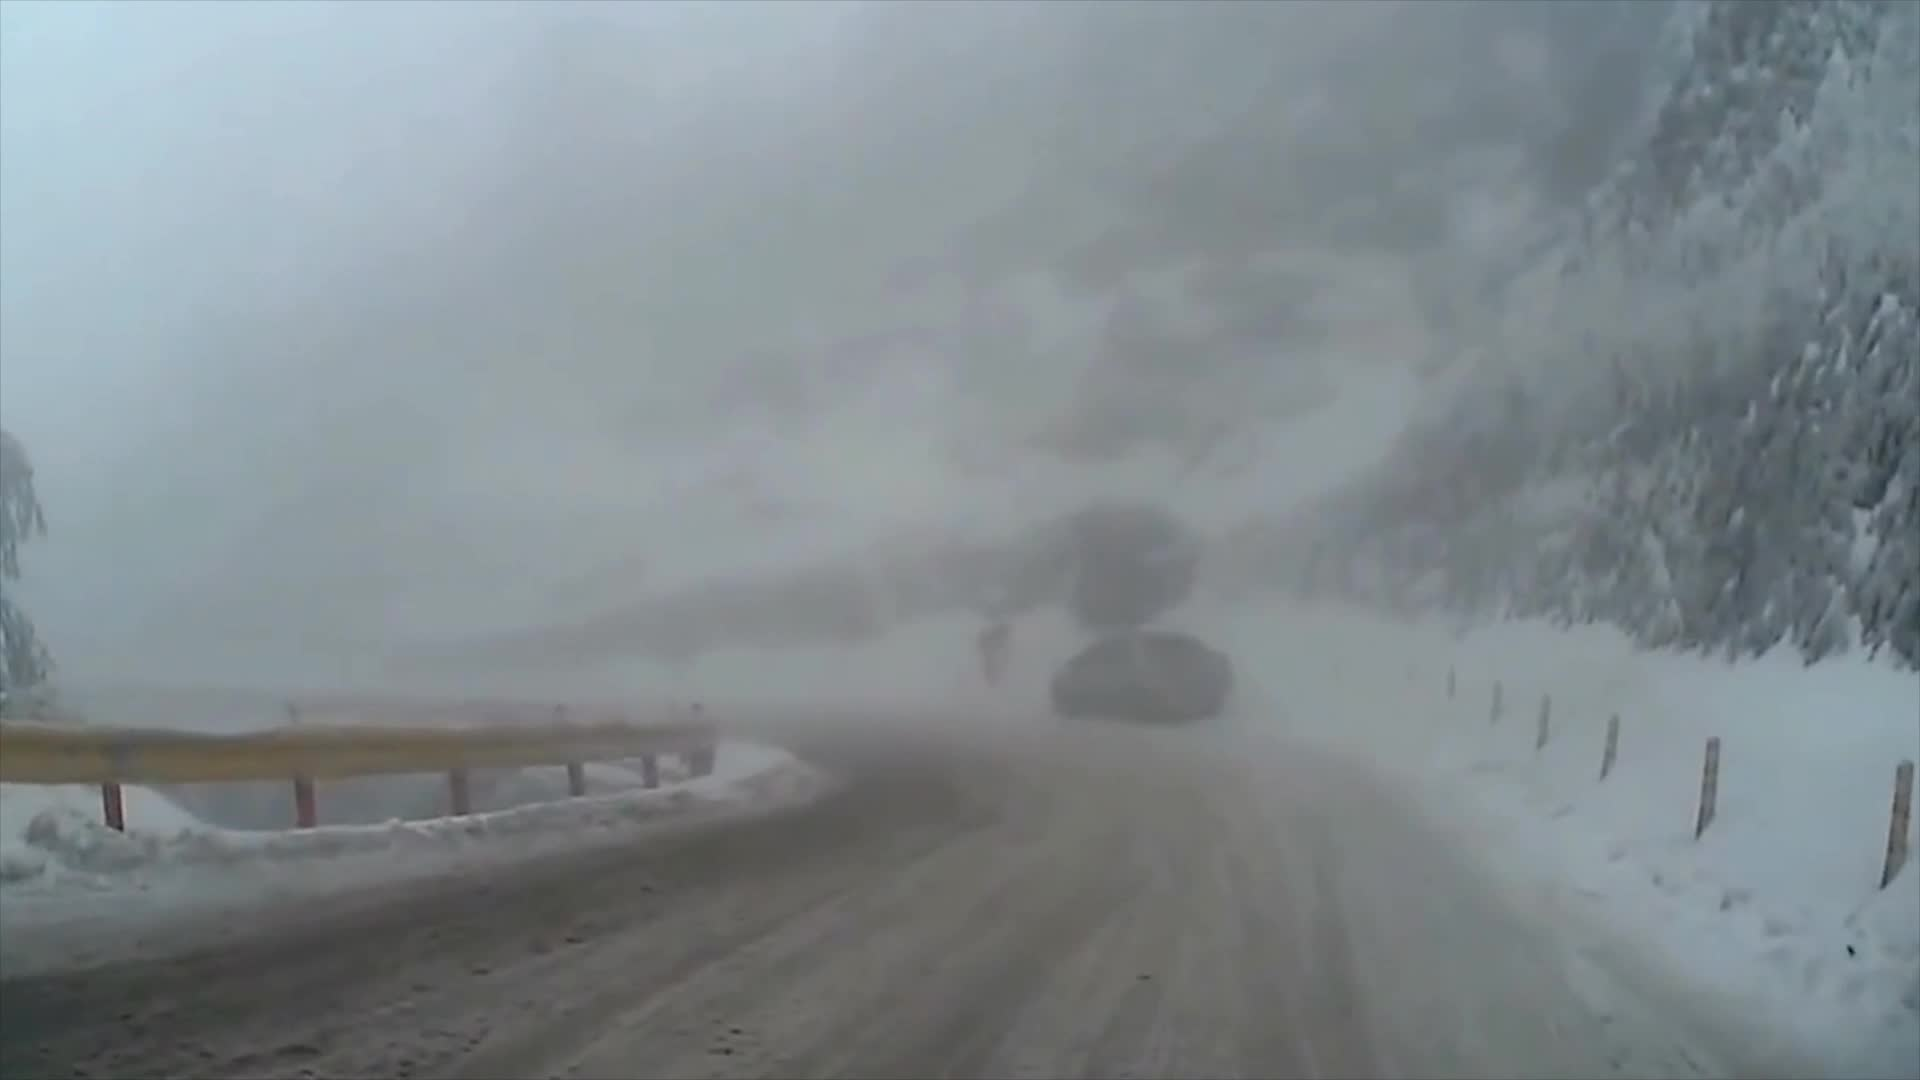pedestrian: (975, 624, 1012, 687)
vehicle: (1047, 630, 1231, 722)
